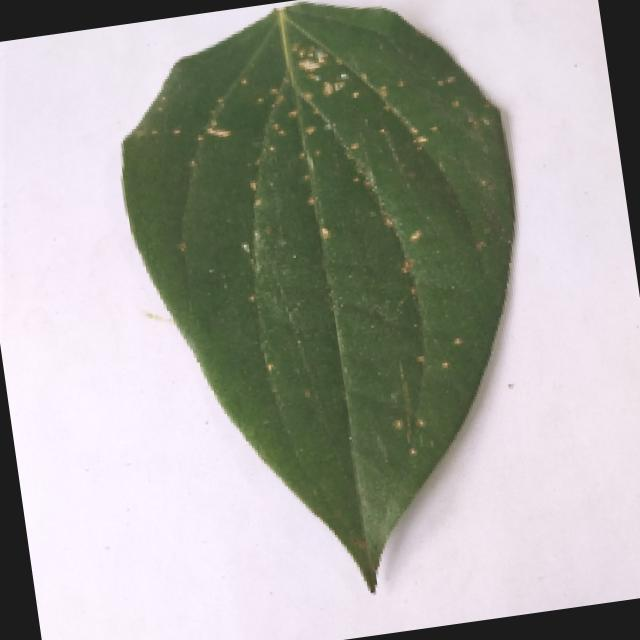pollu-disease: (76, 0, 594, 625)
